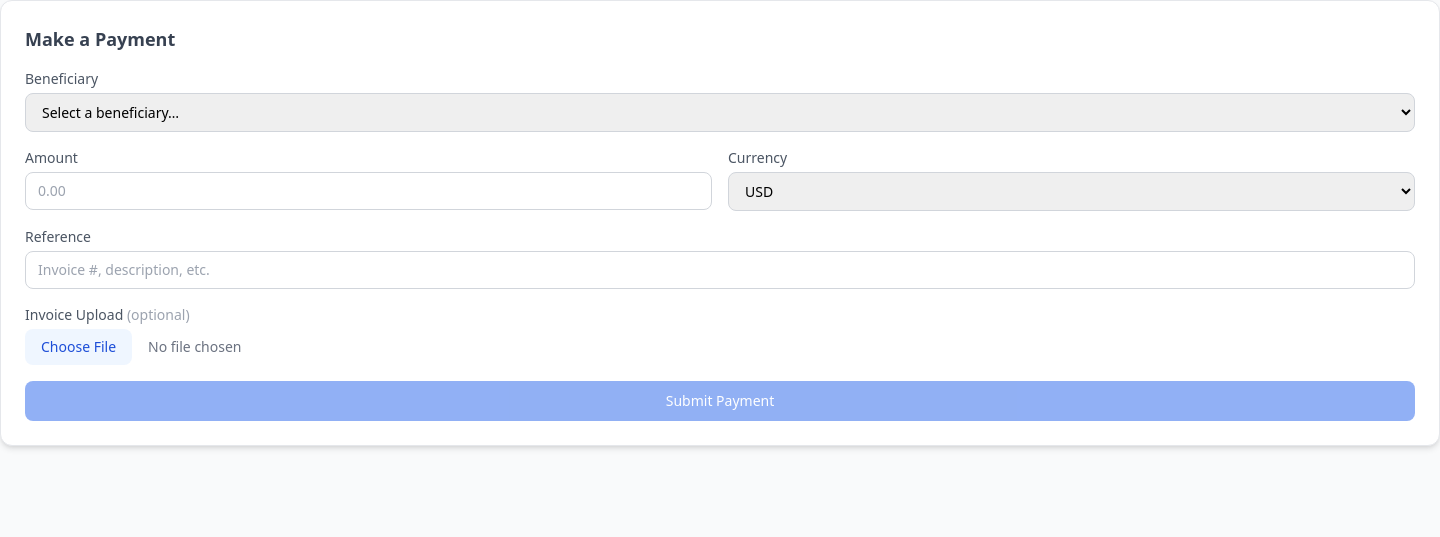
Test: PaymentForm › shows error on payment failure
Select "Alice Johnson – Chase (•••4321)" in the dropdown labelled "Beneficiary" at (720, 112), box x1=25 y1=93 x2=1415 y2=132
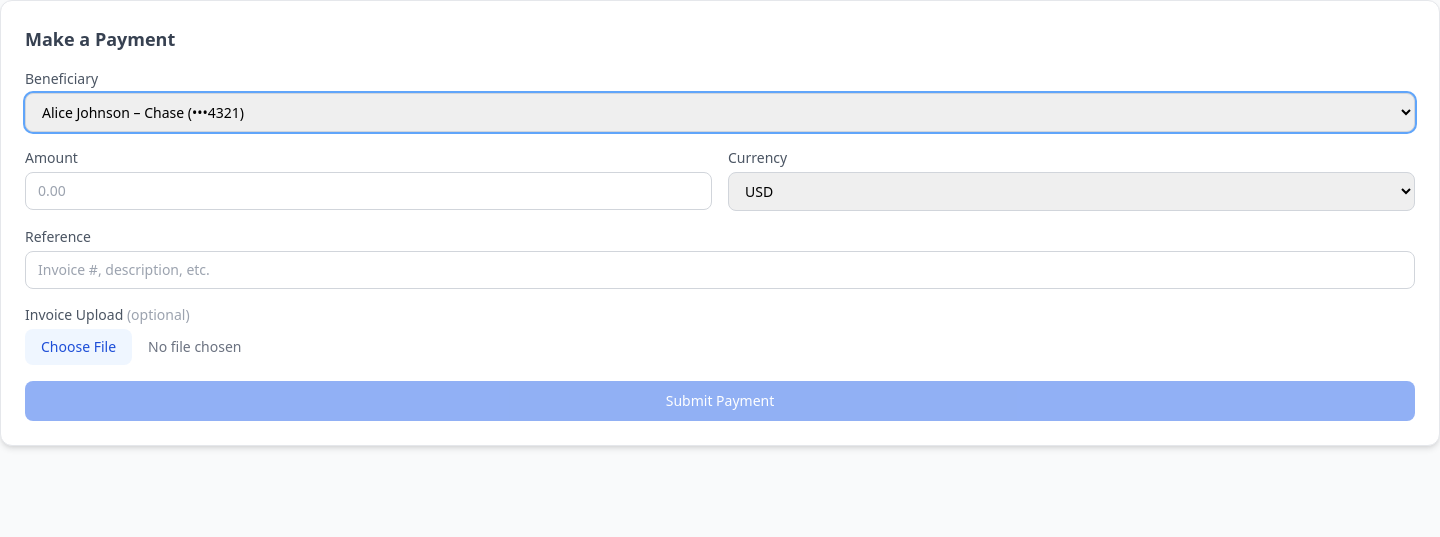
Type "100" into the number field labelled "Amount" at (368, 191), box x1=25 y1=172 x2=712 y2=210
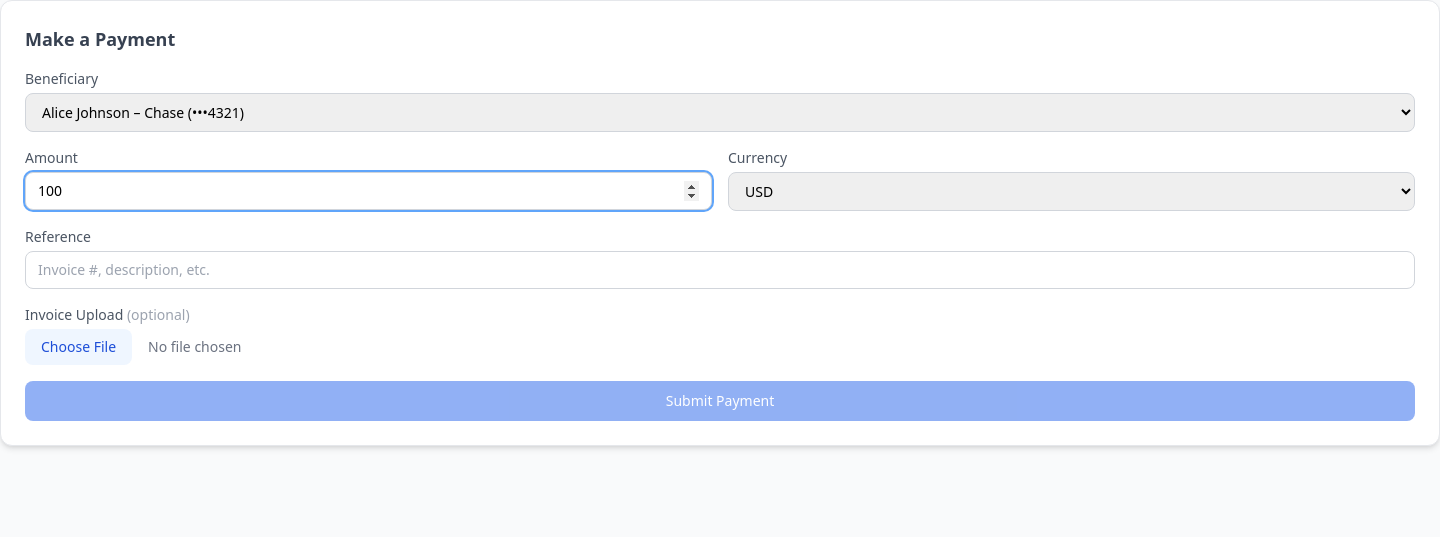
Type "INV-001" into the field labelled "Reference" at (720, 270), box x1=25 y1=251 x2=1415 y2=289
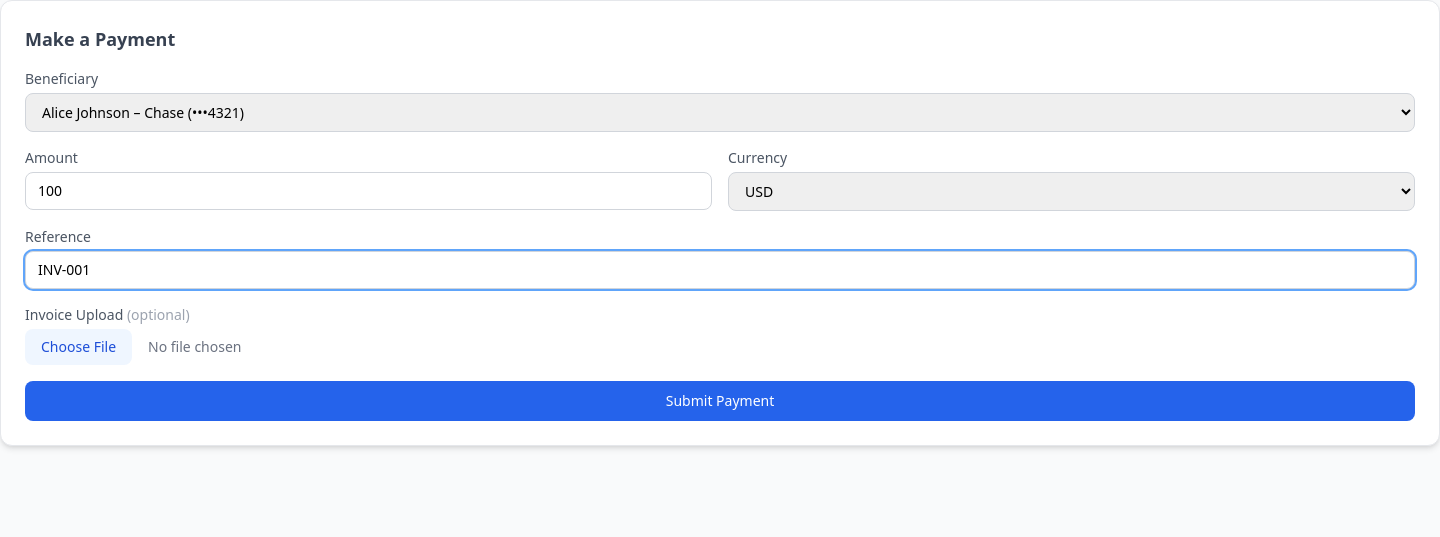
Click the button "Submit Payment" at (720, 401), box x1=25 y1=381 x2=1415 y2=421
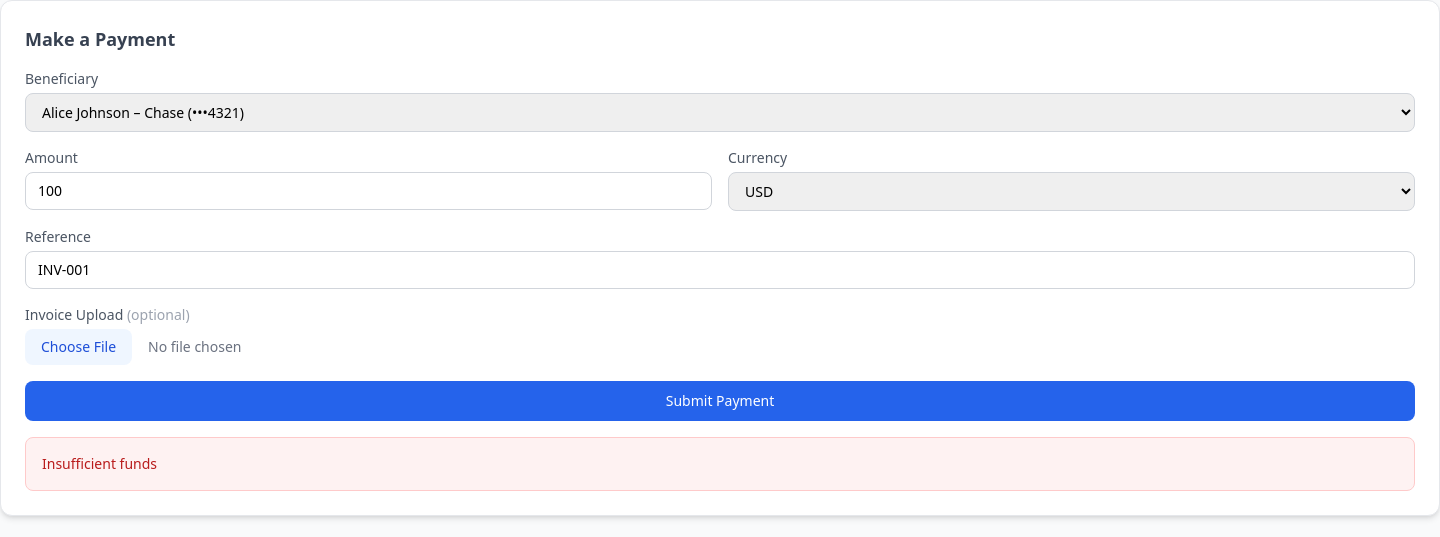
Result: the message reads "Insufficient funds" at x1=42 y1=454 x2=157 y2=473
